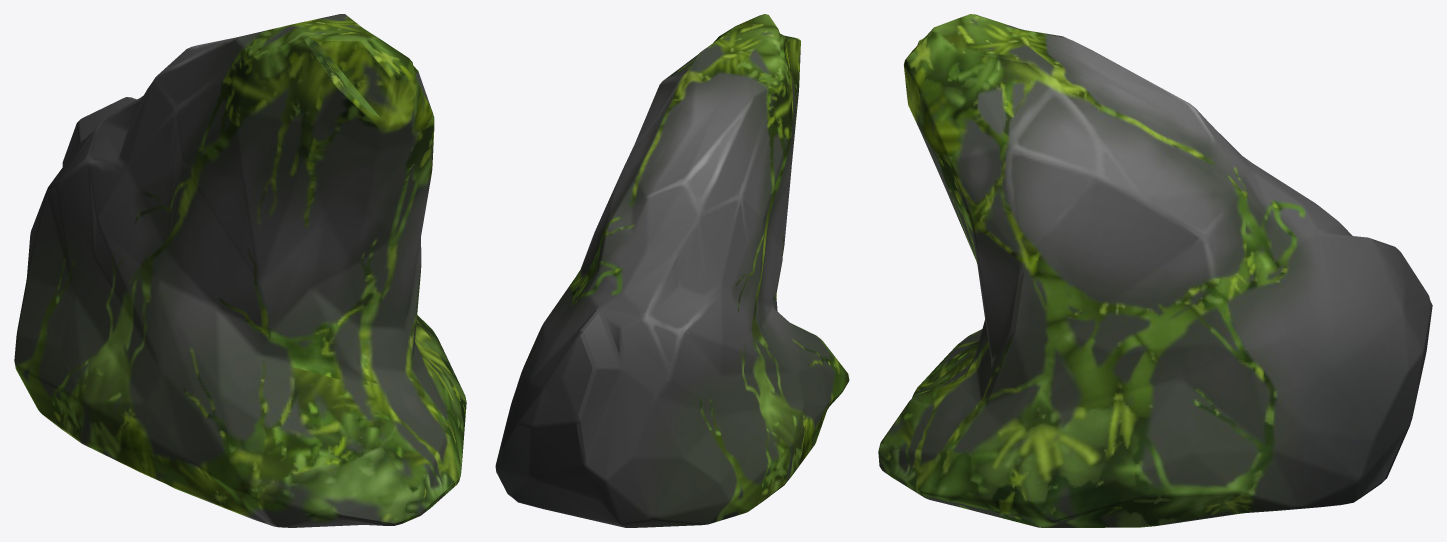
Rendered from ROCK_MESH_01.fbx.
The picture shows the model from 3 angles, left to right: view 1: azimuth 30°, elevation 25°; view 2: azimuth 150°, elevation 25°; view 3: azimuth 270°, elevation 25°; orthographic projection. The views are drawn at different scales.
Parts seen in each view (by area): view 1: defaultMaterial; view 2: defaultMaterial; view 3: defaultMaterial.
Boxes of the visible parts, left/top/right/bottom form: defaultMaterial: left=14, top=14, right=466, bottom=527; defaultMaterial: left=495, top=14, right=849, bottom=527; defaultMaterial: left=878, top=14, right=1432, bottom=527.
Size of the model in its own units: 1969 by 2754 by 3143.
